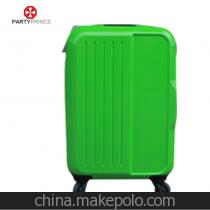luggage: (61, 24, 179, 195)
